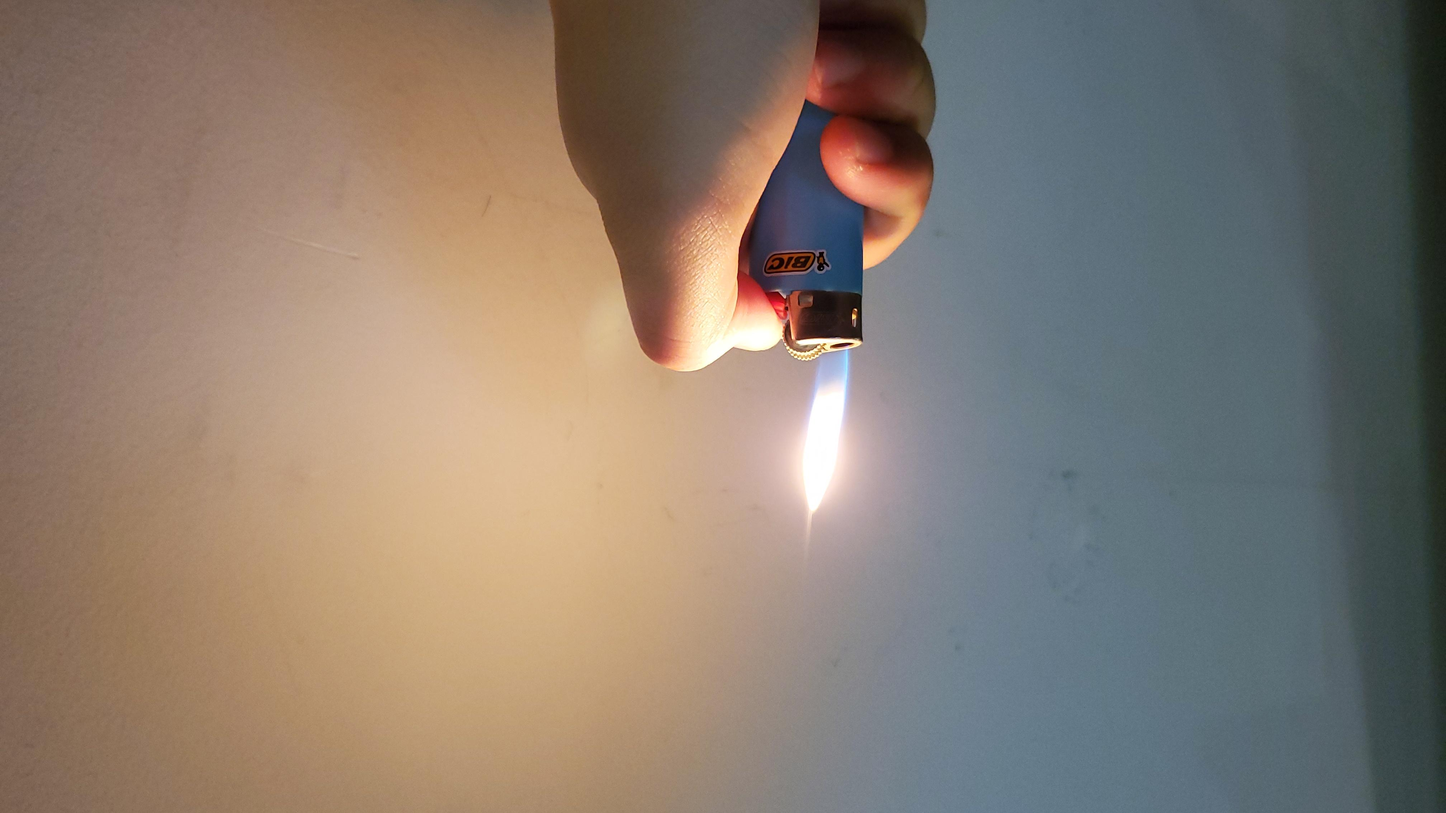fire: (599, 293, 655, 456)
